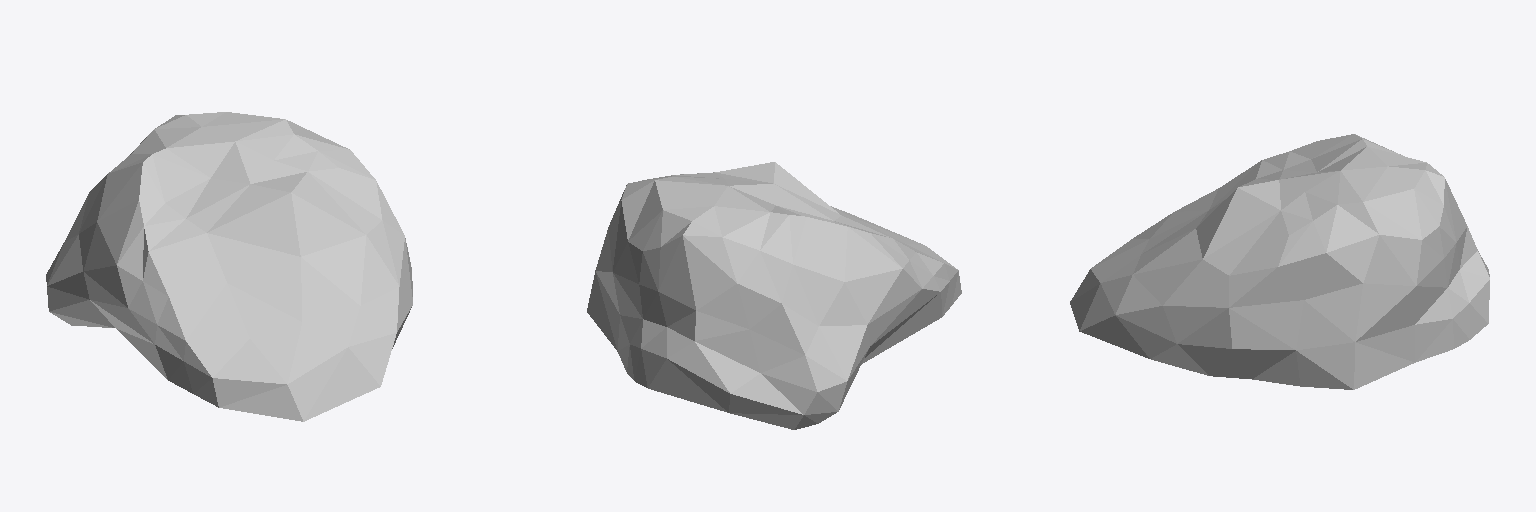
File: rock4.obj
3 views of the same model, side by side, from view 1: azimuth 30°, elevation 25°; view 2: azimuth 150°, elevation 25°; view 3: azimuth 270°, elevation 25° (orthographic).
Parts seen in each view (by area): view 1: r8_Cube.001; view 2: r8_Cube.001; view 3: r8_Cube.001.
Boxes of the visible parts, <box> form: r8_Cube.001: <box>46,112,412,421</box>; r8_Cube.001: <box>587,162,961,429</box>; r8_Cube.001: <box>1070,134,1489,389</box>.
Size of the model in its own units: 3.67 by 2.18 by 4.62.